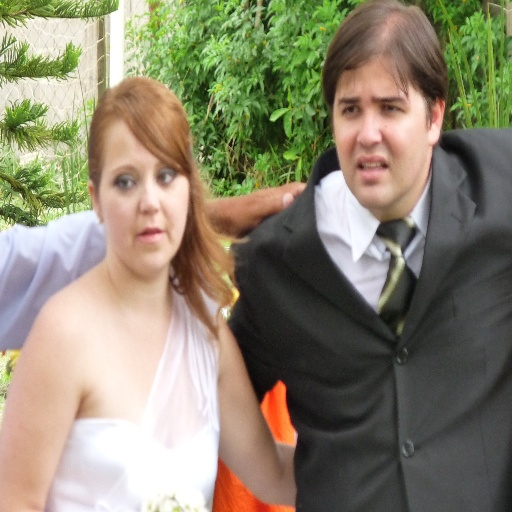hand: (212, 164, 309, 240)
